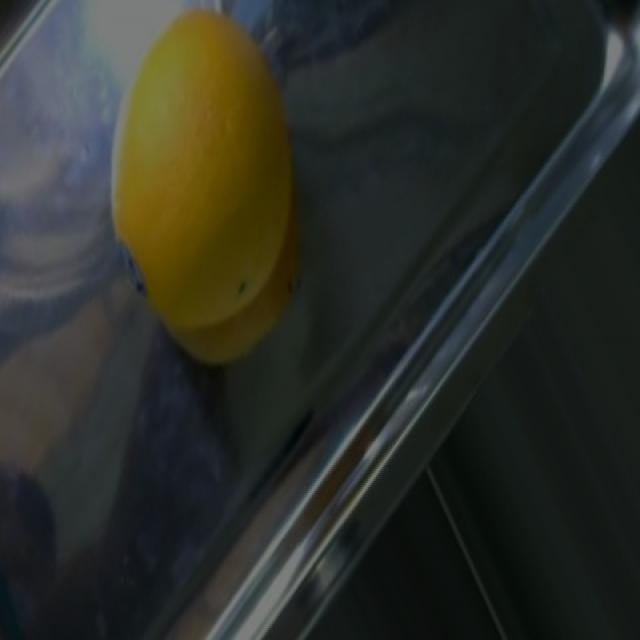Fruit: (97, 0, 319, 384)
